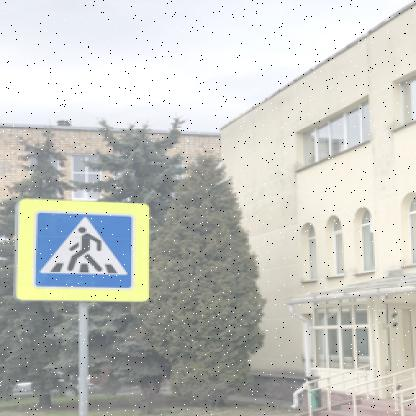crosswalk: (32, 209, 132, 288)
